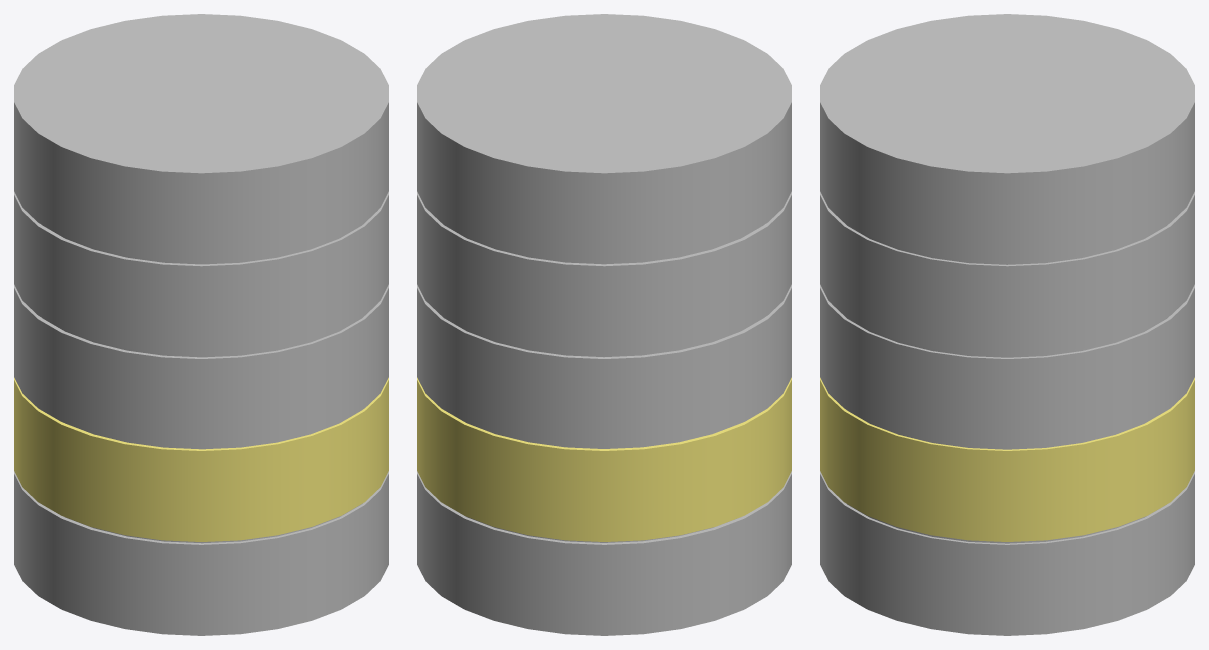
File: ccjq3.obj
The picture shows the model from 3 angles, left to right: view 1: azimuth 30°, elevation 25°; view 2: azimuth 150°, elevation 25°; view 3: azimuth 270°, elevation 25°; orthographic projection.
Visible parts, largest first — view 1: Cylinder025; view 2: Cylinder025; view 3: Cylinder025.
Part boxes in pixels (bbox=[...]): Cylinder025: bbox=[14, 14, 388, 635]; Cylinder025: bbox=[417, 14, 791, 635]; Cylinder025: bbox=[820, 14, 1194, 635].
Size of the model in its own units: 368 by 498 by 366.
1 material, 1 textured.
